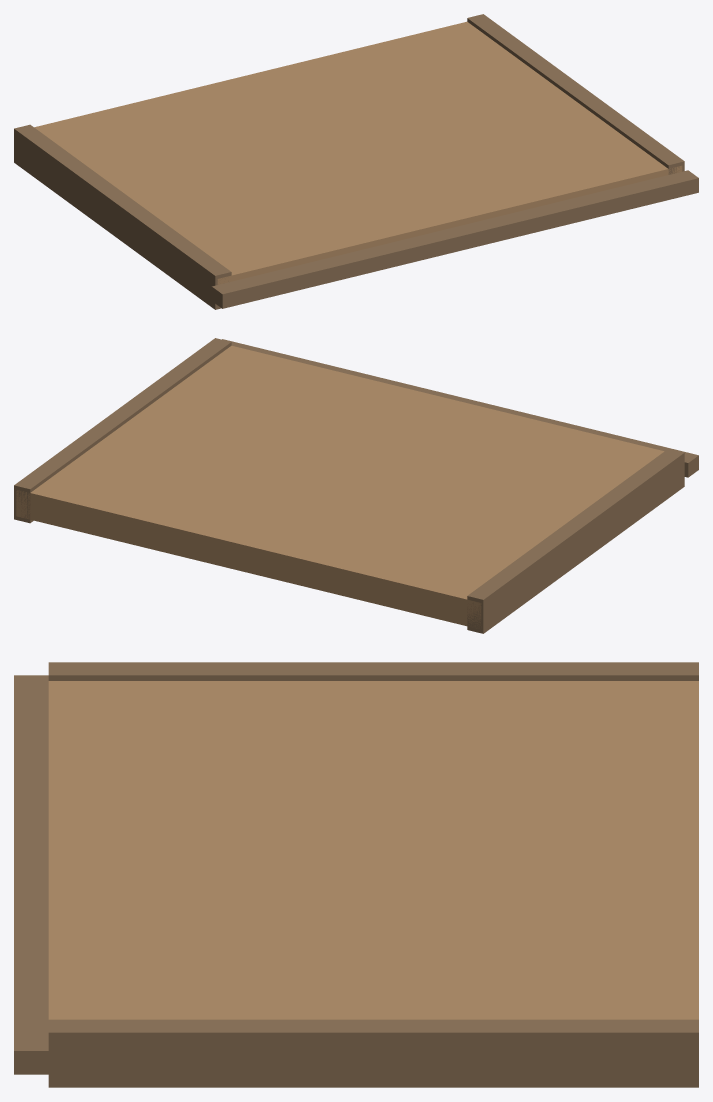
The model's file is mod_wall_wood_4x3.glb.
The picture shows the model from 3 angles, top to bottom: view 1: azimuth 30°, elevation 25°; view 2: azimuth 150°, elevation 25°; view 3: azimuth 270°, elevation 25°; orthographic projection. The views are drawn at different scales.
Visible parts, largest first — view 1: wall, cap, post_l, post_r; view 2: wall, post_l, post_r, cap; view 3: wall, post_r, cap, post_l.
Part boxes in pixels (box(x1,y1,x2,y2)): wall: box(34, 21, 682, 284); cap: box(211, 170, 698, 308); post_l: box(14, 124, 231, 309); post_r: box(467, 14, 684, 174); wall: box(16, 345, 664, 628); post_l: box(467, 448, 684, 633); post_r: box(14, 338, 231, 523); cap: box(222, 339, 698, 477); wall: box(48, 681, 698, 1019); post_r: box(48, 1019, 698, 1087); cap: box(14, 675, 48, 1074); post_l: box(48, 662, 698, 680).
Bounding box in the file's own units: 4.1 × 0.28 × 3.16.
